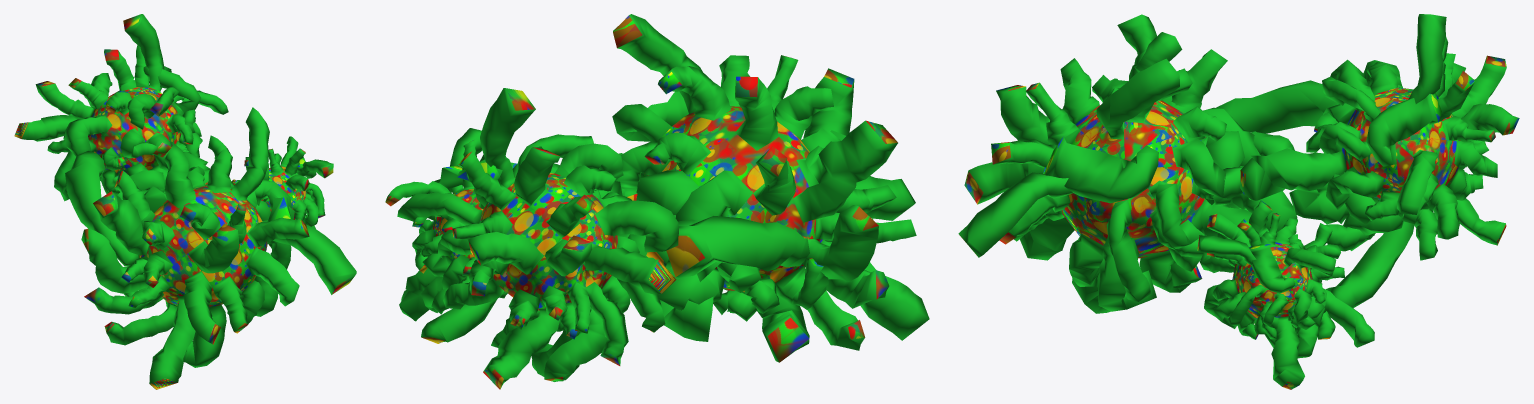
The model's file is Virus2.gltf.
3 views of the same model, side by side, from view 1: azimuth 30°, elevation 25°; view 2: azimuth 150°, elevation 25°; view 3: azimuth 270°, elevation 25° (orthographic). The views are drawn at different scales.
Parts seen in each view (by area): view 1: Sphere; view 2: Sphere; view 3: Sphere.
Boxes of the visible parts, <box> form: Sphere: <box>14,14,356,389</box>; Sphere: <box>385,14,929,389</box>; Sphere: <box>958,14,1519,389</box>.
Bounding box in the file's own units: 0.9011 × 0.7828 × 1.17.
Materials: 3 (3 with a texture image).
